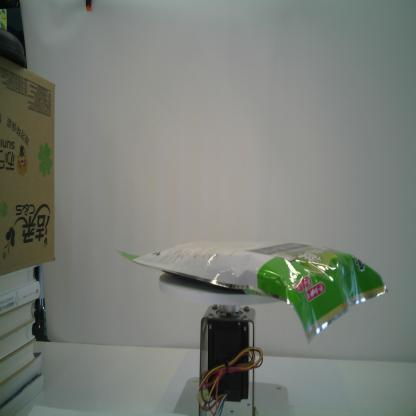Dried Food: (117, 240, 390, 345)
